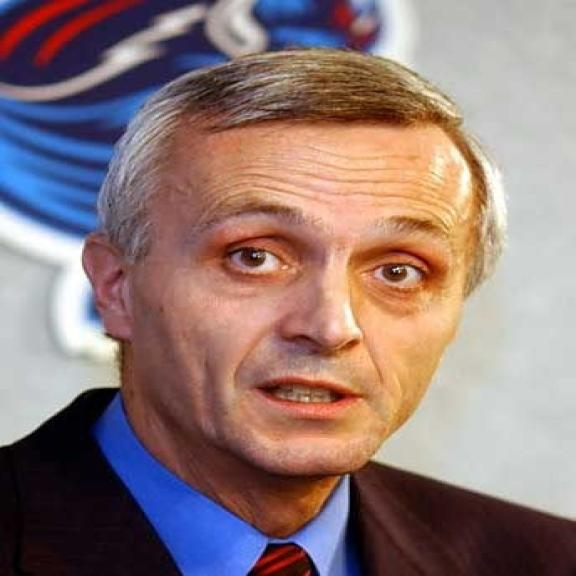face: (74, 41, 493, 479)
